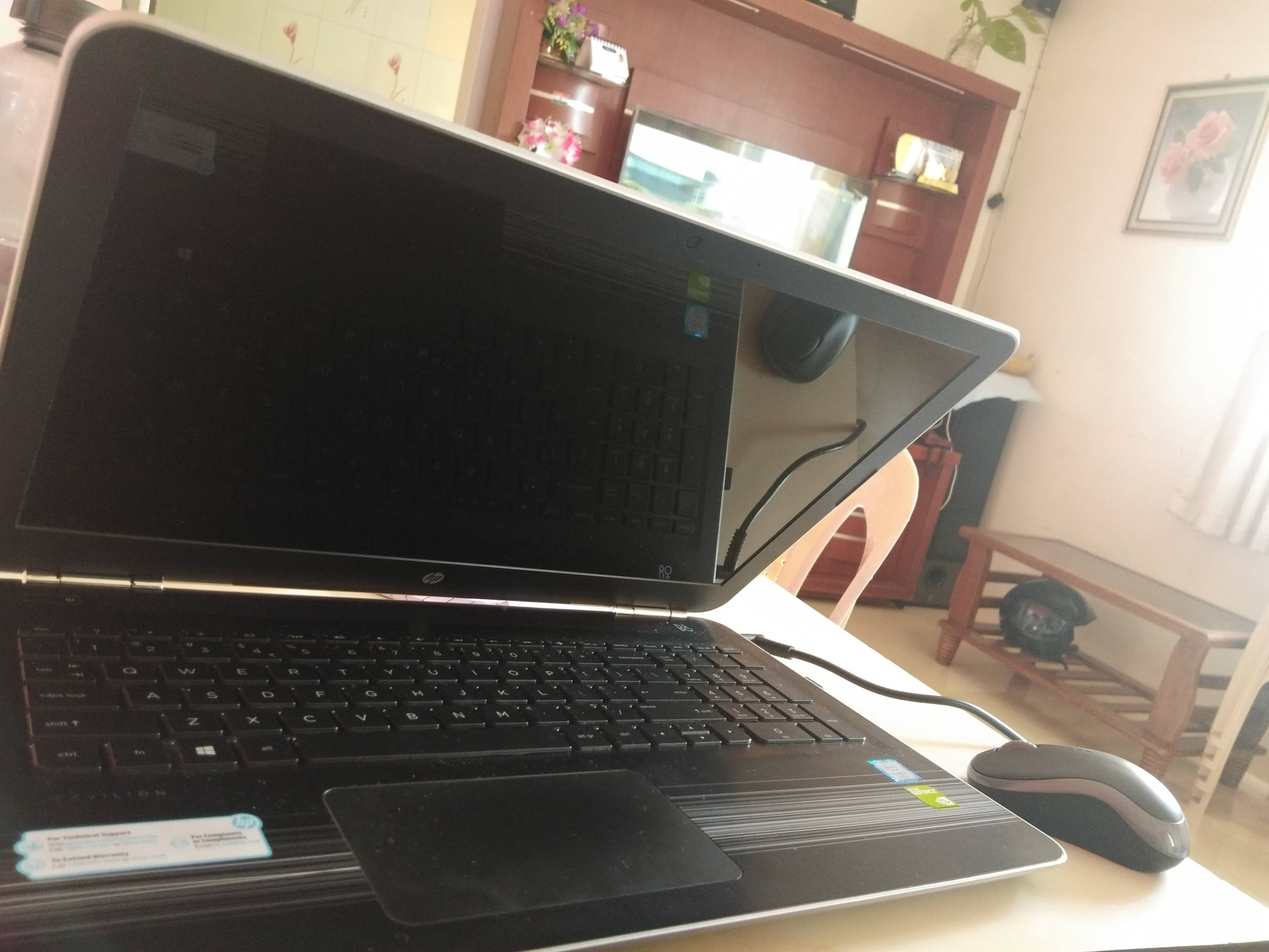Electronics: (11, 0, 1074, 951), (961, 719, 1211, 885)
